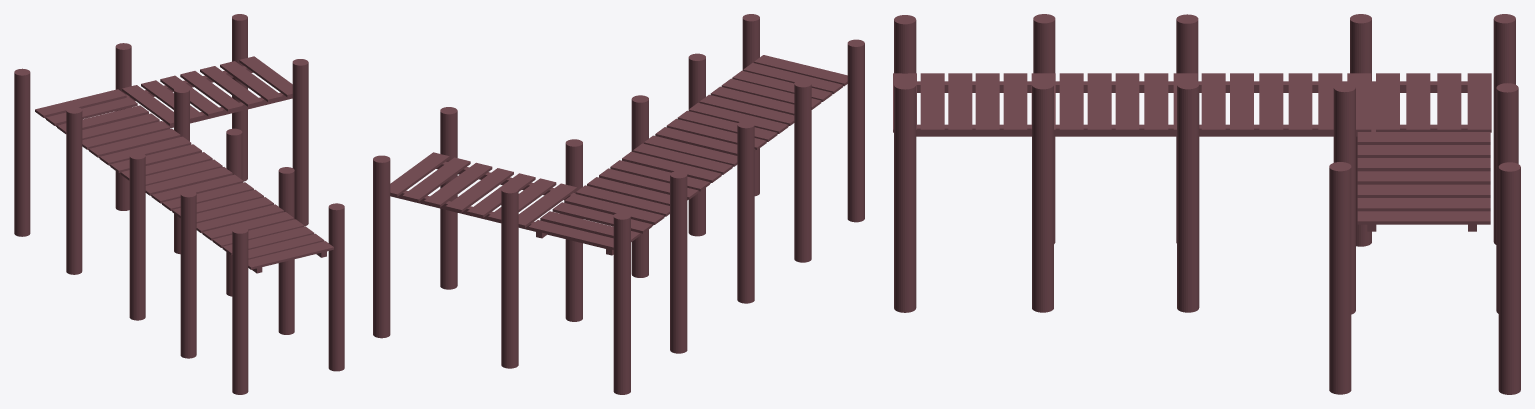
Rendered from camp-dock.lod0.glb.
The picture shows the model from 3 angles, left to right: view 1: azimuth 30°, elevation 25°; view 2: azimuth 150°, elevation 25°; view 3: azimuth 270°, elevation 25°; orthographic projection. The views are drawn at different scales.
Visible parts, largest first — view 1: Cube.029_Material.020_0; view 2: Cube.029_Material.020_0; view 3: Cube.029_Material.020_0.
Boxes of the visible parts, bbox=[...] form: Cube.029_Material.020_0: bbox=[14, 14, 344, 394]; Cube.029_Material.020_0: bbox=[373, 14, 864, 394]; Cube.029_Material.020_0: bbox=[893, 14, 1520, 394].
Bounding box in the file's own units: 8.34 × 5.5 × 14.
